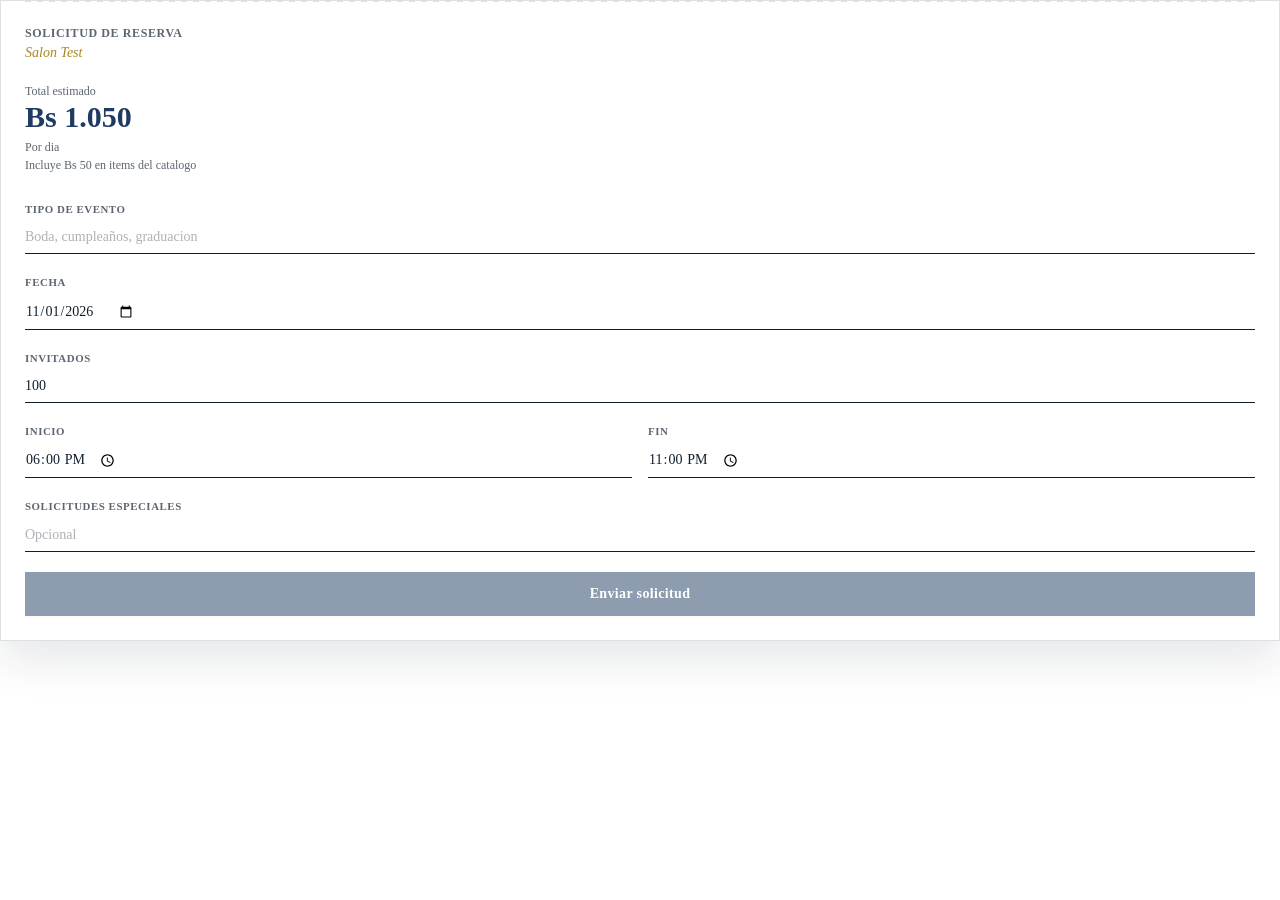
Test: BookingForm con items del catalogo › mantiene la confirmacion inmediata cuando no hay items
Type "Boda" into the field labelled "Tipo de evento" at point(640, 239), box [25, 223, 1255, 254]
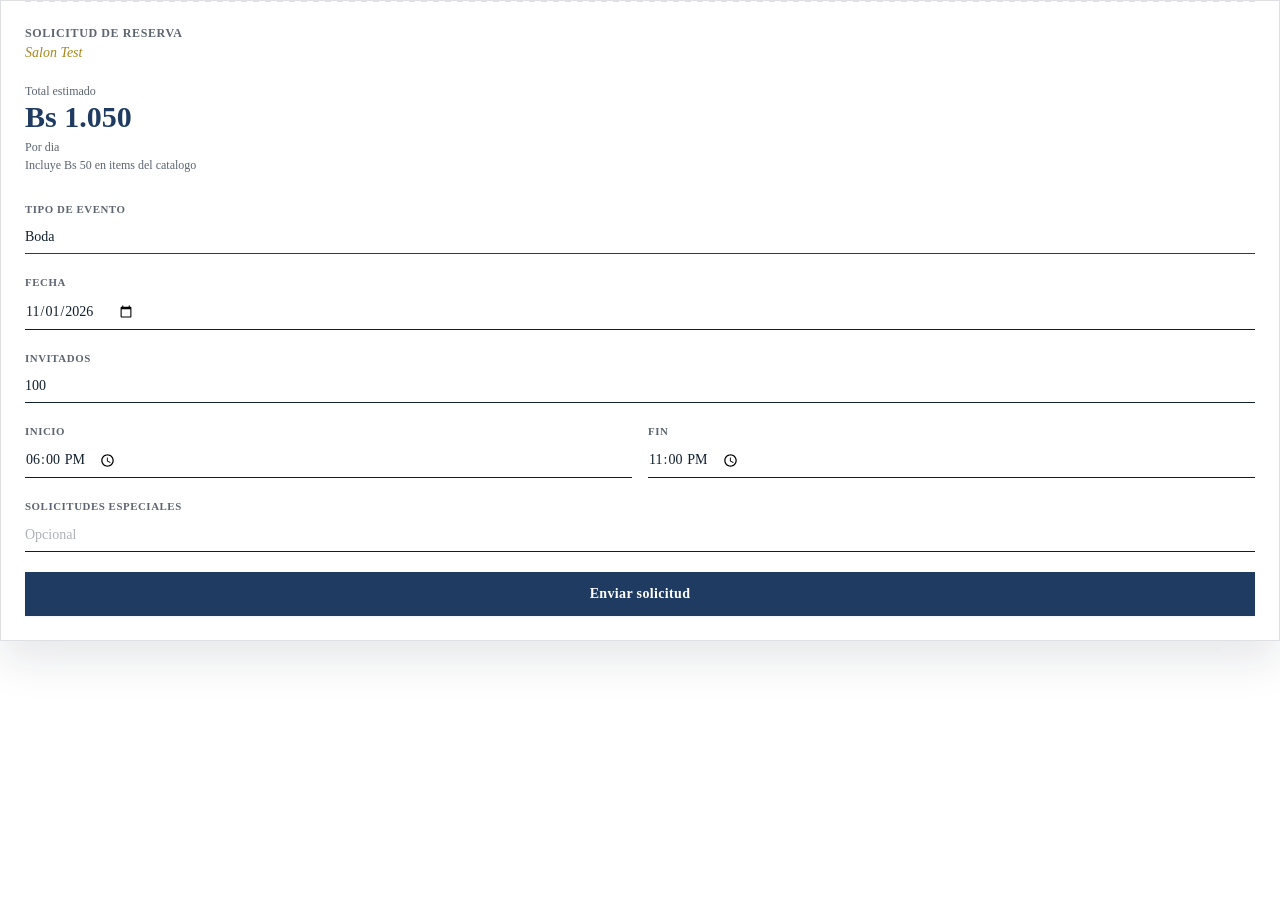
Click the button "Enviar solicitud" at point(640, 594), box [25, 572, 1255, 616]
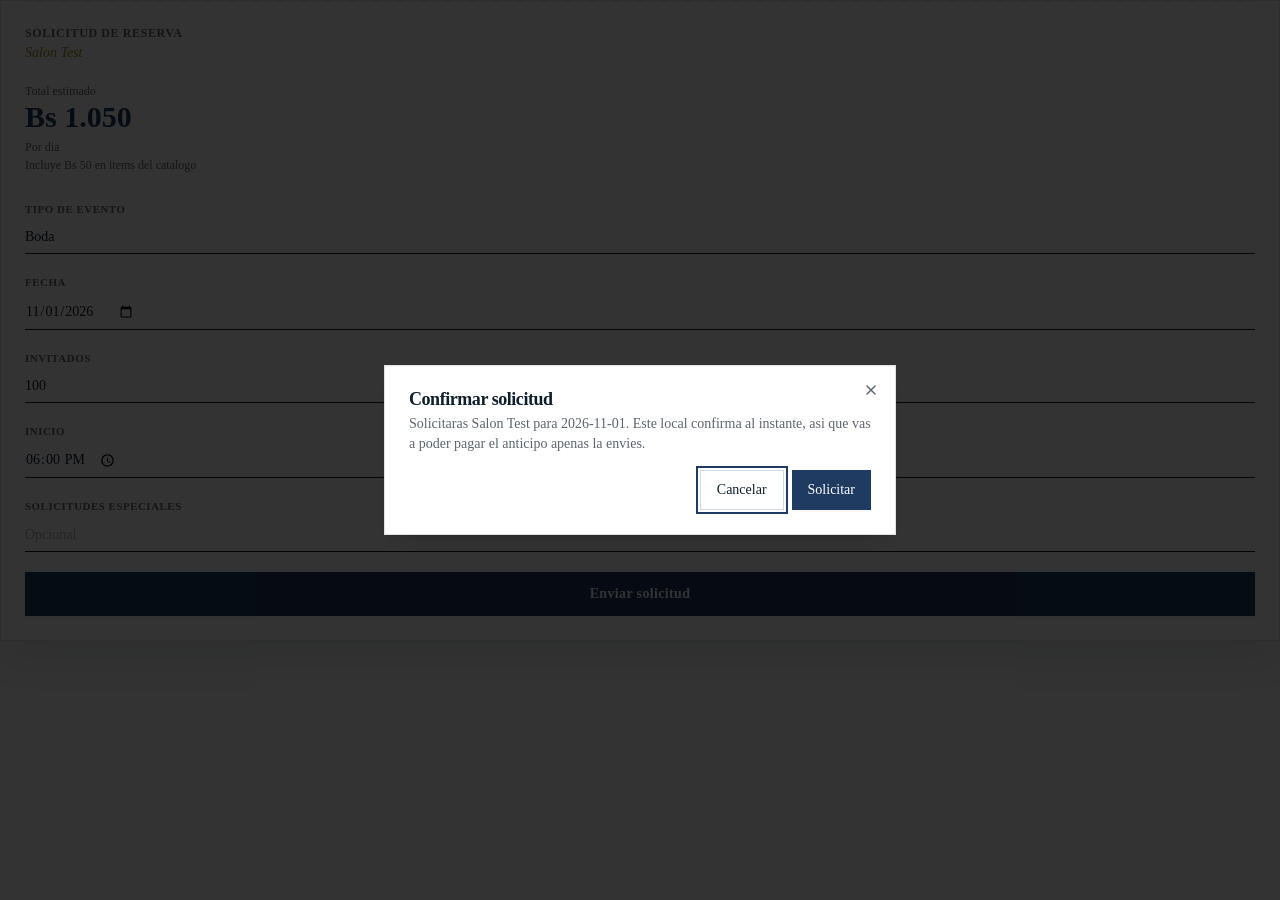
Result: the text "Este local confirma al instante" is shown at [409, 416, 871, 451]
